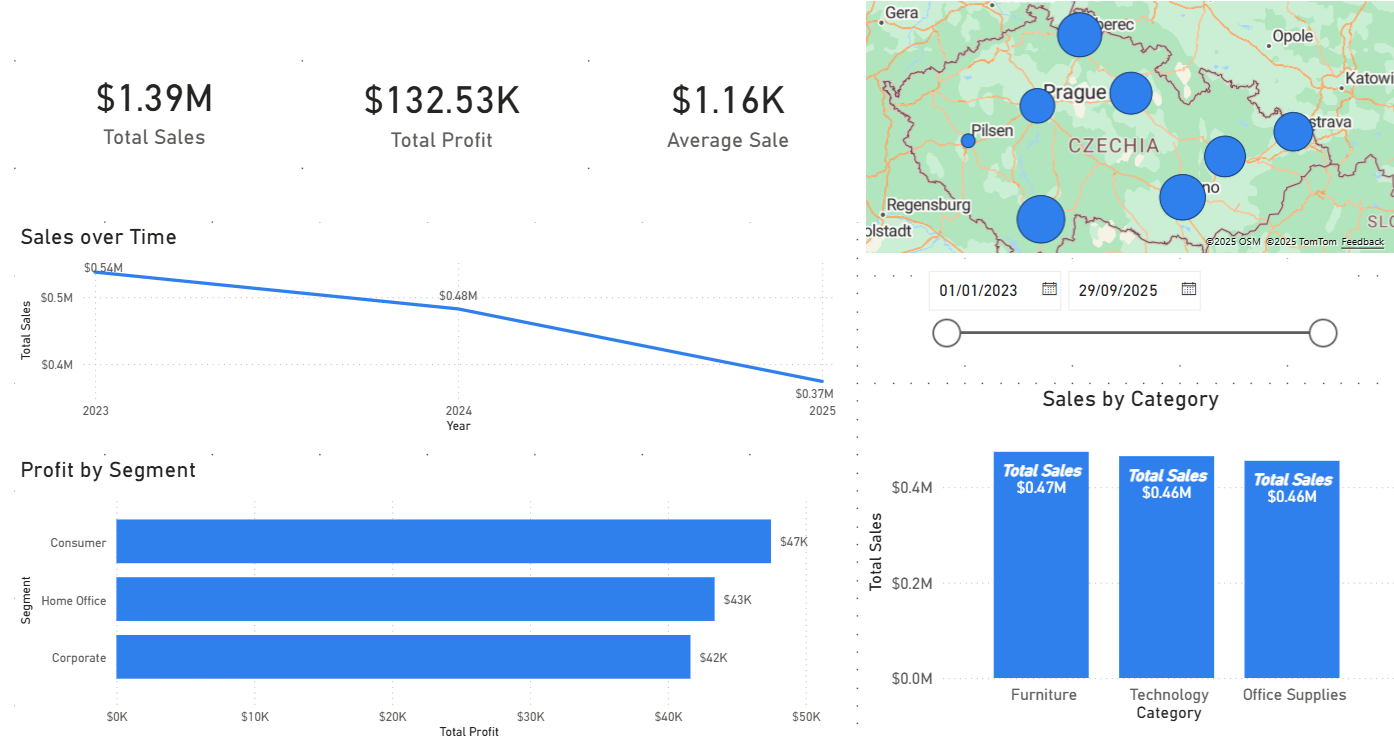

The page's visual inventory and layout, read from the dashboard file:
{"tool":"powerbi","page":{"name":"Page 1","canvas":[1280,720],"ordinal":0},"visuals":[{"type":"card","title":"Total Sales","fields":{"Values":["superstore_sales_sample.Total Sales"]},"box":[20,16,240,220],"z":0},{"type":"clusteredColumnChart","title":"Sales by Category","fields":{"Category":["superstore_sales_sample.Category"],"Y":["superstore_sales_sample.Total Sales"]},"box":[768,384,480,304],"z":1000},{"type":"clusteredBarChart","title":"Profit by Segment","fields":{"Category":["superstore_sales_sample.Segment"],"Y":["superstore_sales_sample.Total Profit"]},"box":[16,448,736,256],"z":1001},{"type":"lineChart","title":"Sales over Time","fields":{"Category":["superstore_sales_sample.Order Date.Variation.Date Hierarchy.Year","superstore_sales_sample.Order Date.Variation.Date Hierarchy.Quarter","superstore_sales_sample.Order Date.Variation.Date Hierarchy.Month","superstore_sales_sample.Order Date.Variation.Date Hierarchy.Day"],"Y":["superstore_sales_sample.Total Sales"]},"box":[16,240,736,192],"z":1002},{"type":"slicer","fields":{"Values":["superstore_sales_sample.Order Date"]},"box":[816,272,384,80],"z":1003},{"type":"card","title":"Total Profit","fields":{"Values":["superstore_sales_sample.Total Profit"]},"box":[275,16,240,224],"z":1004},{"type":"card","title":"Average Sale","fields":{"Values":["superstore_sales_sample.Average Sale"]},"box":[530,16,240,224],"z":1005},{"type":"azureMap","title":"Sales by City","fields":{"Category":["superstore_sales_sample.City"],"Size":["superstore_sales_sample.Total Sales"]},"box":[768,16,480,256],"z":1006}]}

Visuals, with their boxes on the page's 1280x720 design canvas (x1, y1, x2, y2). These are canvas units, not pixel positions in the 1394x746 screenshot, which may show the page scaled, cropped or inside an application window:
"Total Sales" card: box=[20, 16, 260, 236]
"Sales by Category" clusteredColumnChart: box=[768, 384, 1248, 688]
"Profit by Segment" clusteredBarChart: box=[16, 448, 752, 704]
"Sales over Time" lineChart: box=[16, 240, 752, 432]
slicer - superstore_sales_sample.Order Date: box=[816, 272, 1200, 352]
"Total Profit" card: box=[275, 16, 515, 240]
"Average Sale" card: box=[530, 16, 770, 240]
"Sales by City" azureMap: box=[768, 16, 1248, 272]
